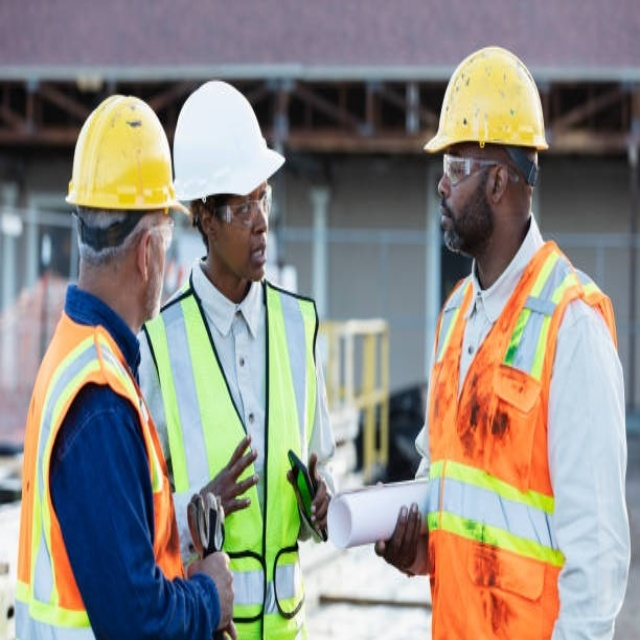Gafas: (196, 180, 279, 226), (438, 144, 503, 178), (138, 216, 178, 248)
Sin_guantes: (206, 421, 261, 509), (371, 496, 430, 574), (186, 550, 238, 626), (305, 445, 333, 531)
Sin_mascara: (436, 199, 461, 244), (246, 236, 268, 277)
